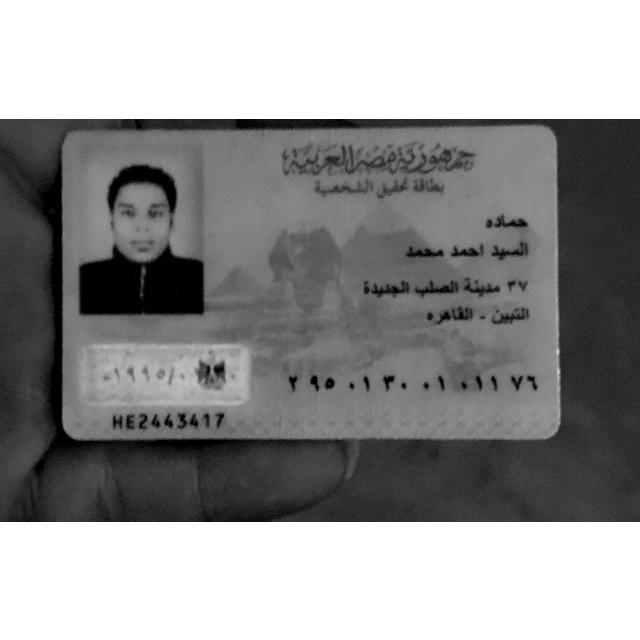id_card: (60, 124, 560, 440)
